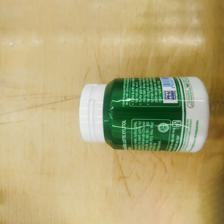Xylitol_green: (78, 72, 213, 156)
